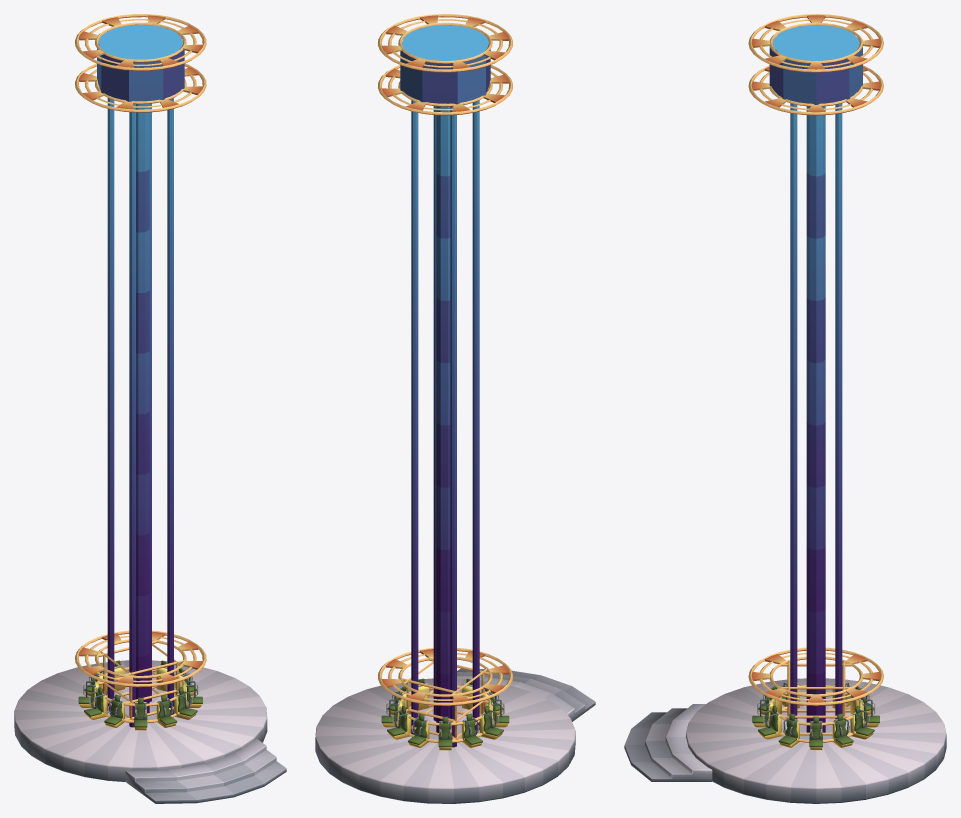
The model's file is lpb_ride_droptower.fbx.
3 views of the same model, side by side, from view 1: azimuth 30°, elevation 25°; view 2: azimuth 150°, elevation 25°; view 3: azimuth 270°, elevation 25° (orthographic). The views are drawn at different scales.
Parts seen in each view (by area): view 1: dropTower, dropTowerSeat; view 2: dropTower, dropTowerSeat; view 3: dropTower, dropTowerSeat.
Part boxes in pixels (x1=…): dropTower: x1=14, y1=14, x2=286, y2=803; dropTowerSeat: x1=75, y1=630, x2=206, y2=730; dropTower: x1=315, y1=14, x2=595, y2=803; dropTowerSeat: x1=378, y1=648, x2=512, y2=750; dropTower: x1=624, y1=14, x2=946, y2=803; dropTowerSeat: x1=748, y1=647, x2=883, y2=749.
Size of the model in its own units: 8.62 by 25.8 by 10.65.
